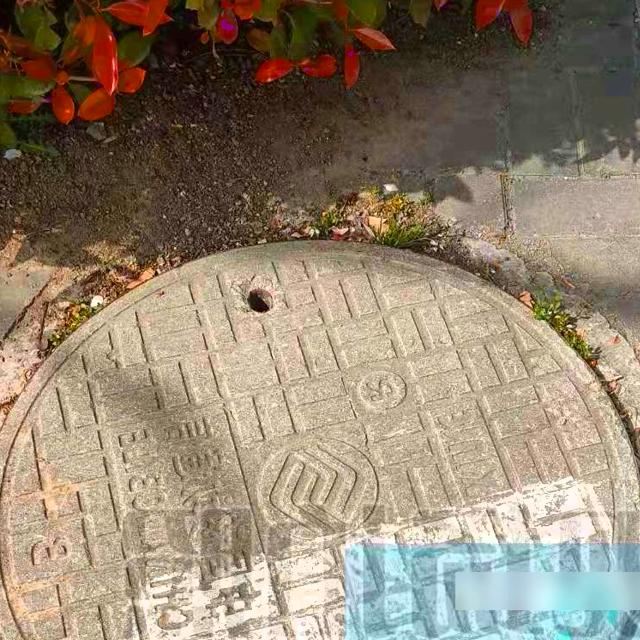circle: (0, 208, 640, 640)
